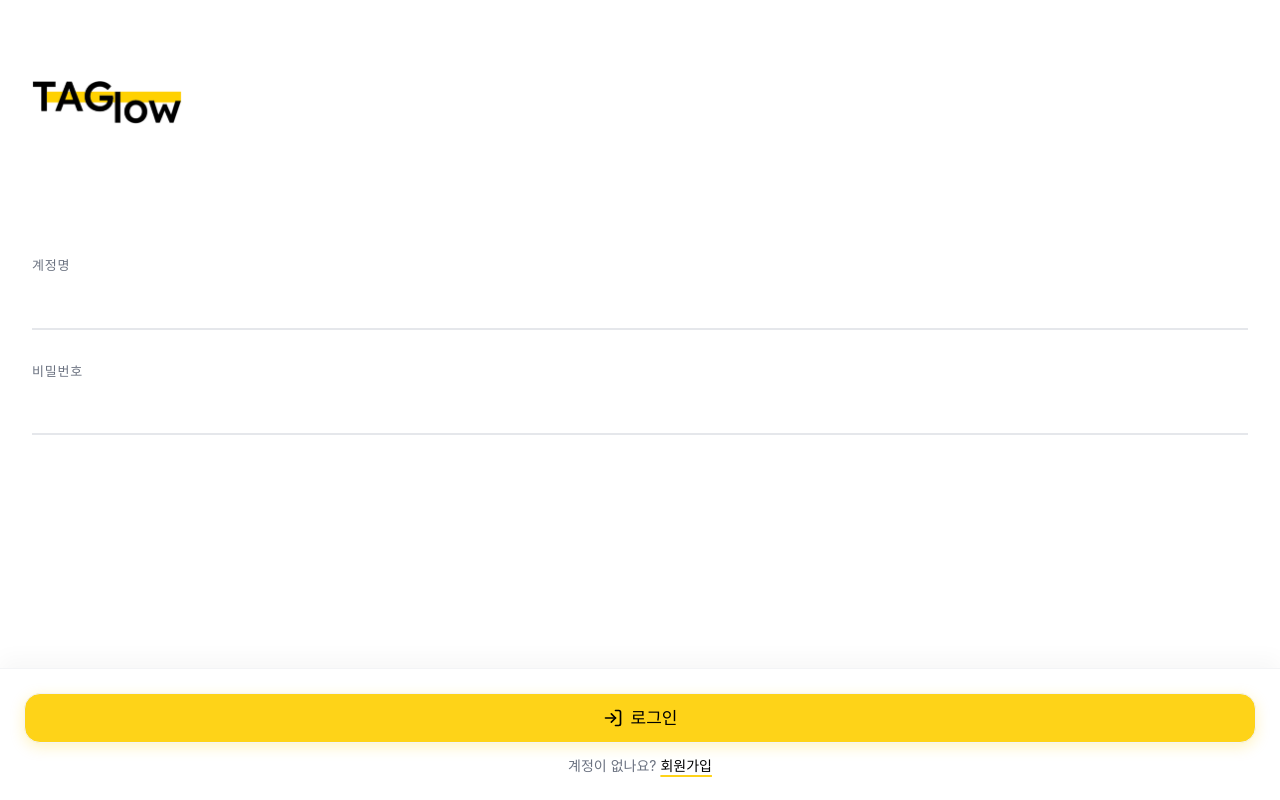
Test: LoginPage › renders login form and blocks unsupported roles with safe message
Type "guest" into the field labelled "계정명". click: (640, 307)
box: [32,284,1248,330]
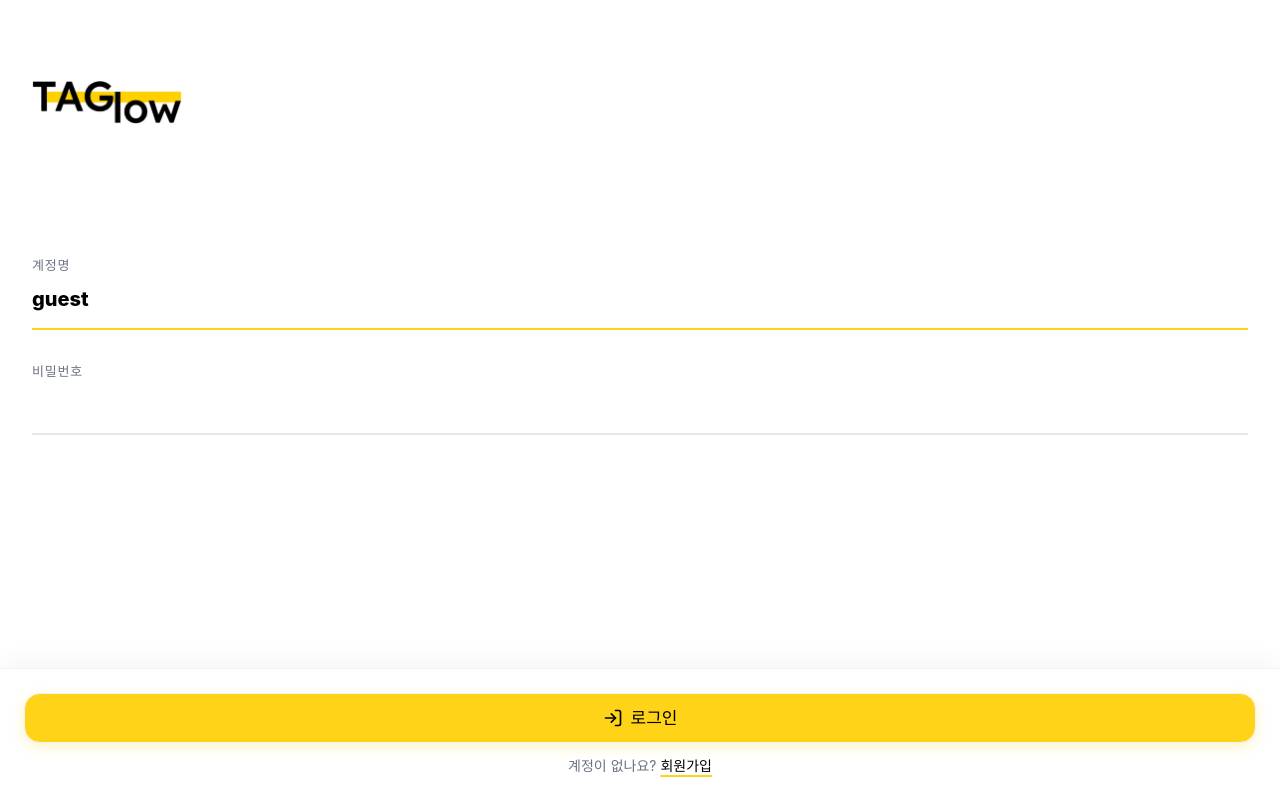
Type "password123" into the password field labelled "비밀번호". click: (640, 412)
box: [32,389,1248,435]
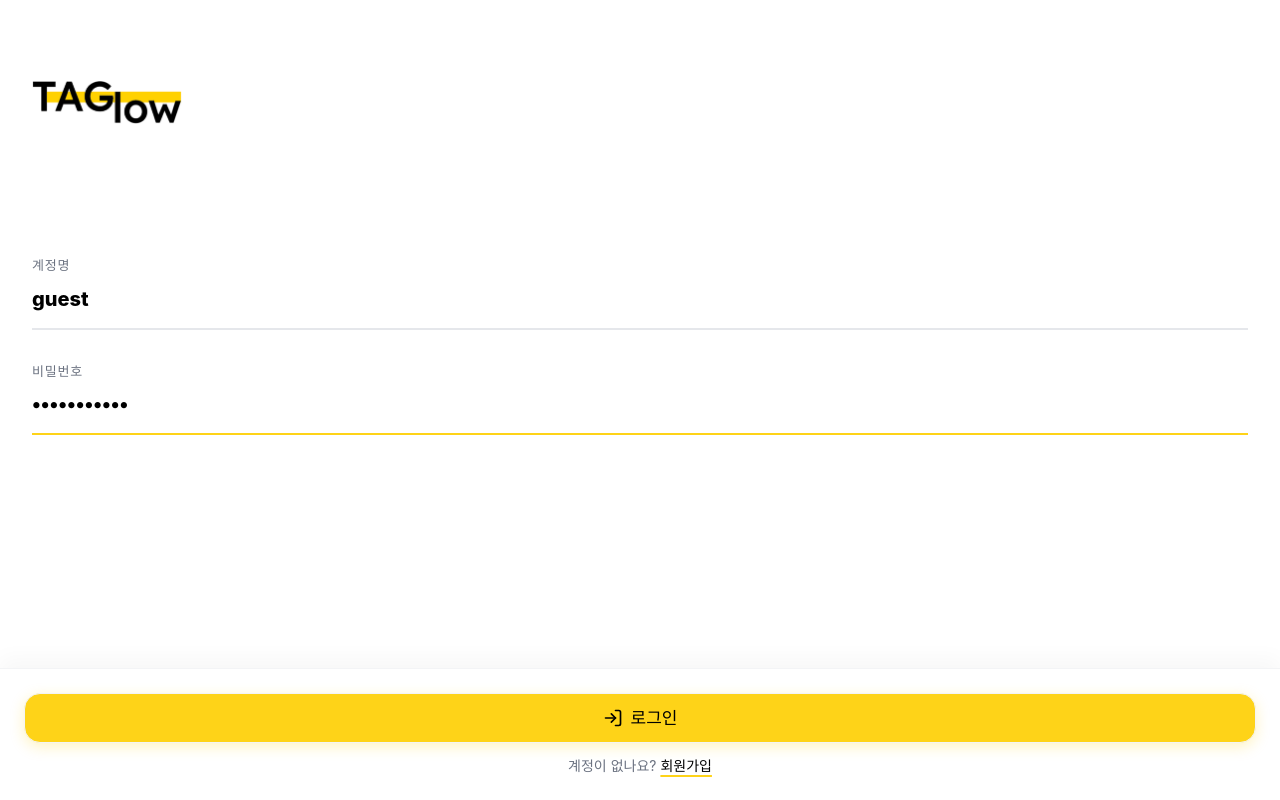
Click the button "로그인". click: (640, 718)
box: [24,693,1256,743]
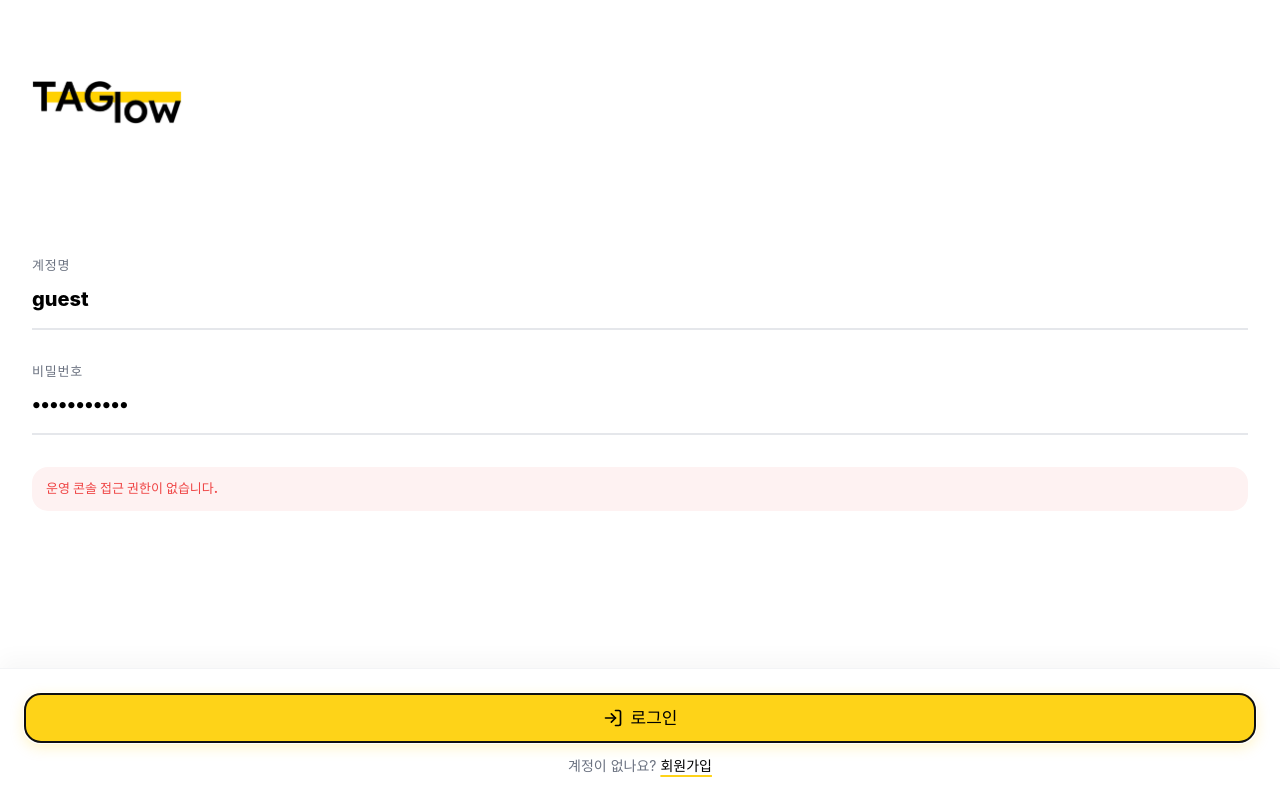
Expected: the text "운영 콘솔 접근 권한이 없습니다." is shown, [32,467,1248,511]
